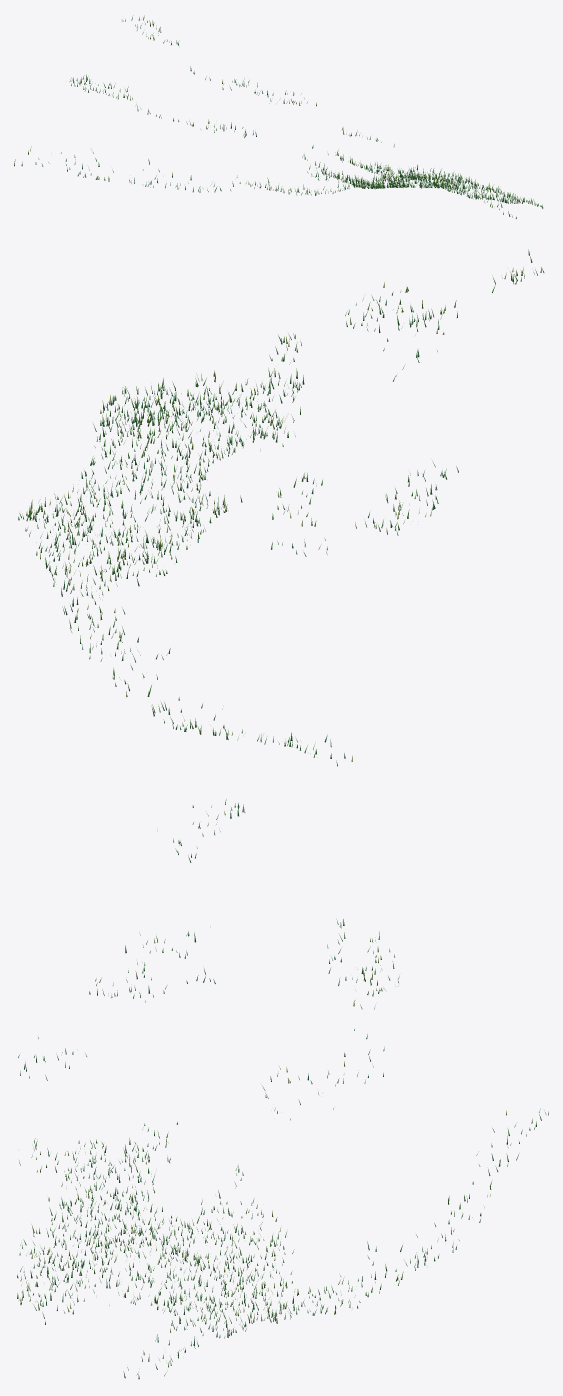
3 views of the same model, one above another, from view 1: azimuth 30°, elevation 25°; view 2: azimuth 150°, elevation 25°; view 3: azimuth 270°, elevation 25° (orthographic). The views are drawn at different scales.
Parts seen in each view (by area): view 1: gc_64; view 2: gc_64; view 3: gc_64.
Boxes of the visible parts, <box> form: gc_64: <box>14,15,543,218</box>; gc_64: <box>18,249,544,766</box>; gc_64: <box>17,799,548,1379</box>.
Size of the model in its own units: 18.09 by 13.1 by 17.53.
Materials: 1 (1 with a texture image).
